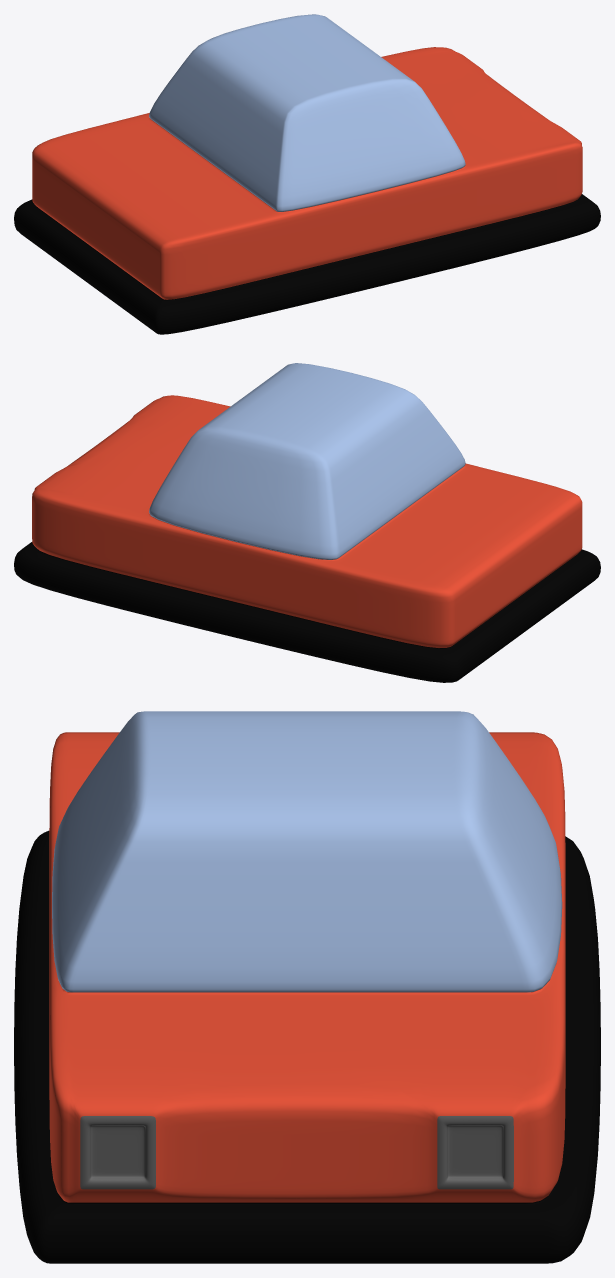
Rendered from CarRed.fbx.
3 views of the same model, one above another, from view 1: azimuth 30°, elevation 25°; view 2: azimuth 150°, elevation 25°; view 3: azimuth 270°, elevation 25° (orthographic). The views are drawn at different scales.
Visible parts, largest first — view 1: CarRed; view 2: CarRed; view 3: CarRed.
Part boxes in pixels (x1,y1,x2,y2): CarRed: [14, 14, 600, 334]; CarRed: [14, 363, 600, 682]; CarRed: [14, 711, 600, 1263].
Bounding box in the file's own units: 211 × 79.74 × 132.
